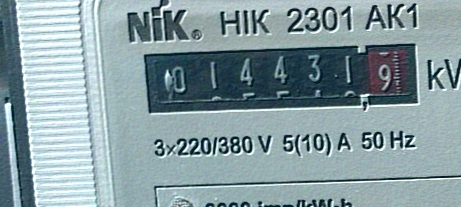0: (170, 60, 191, 93)
1: (206, 55, 225, 88), (343, 50, 357, 82)
3: (306, 50, 326, 82)
4: (237, 52, 259, 85), (272, 49, 291, 83)
9: (377, 58, 395, 89)
screen: (137, 33, 433, 119)
